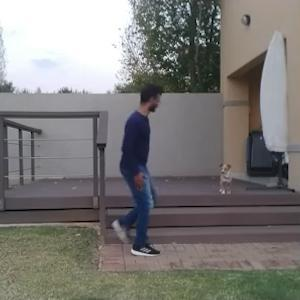follow: (118, 86, 164, 233)
